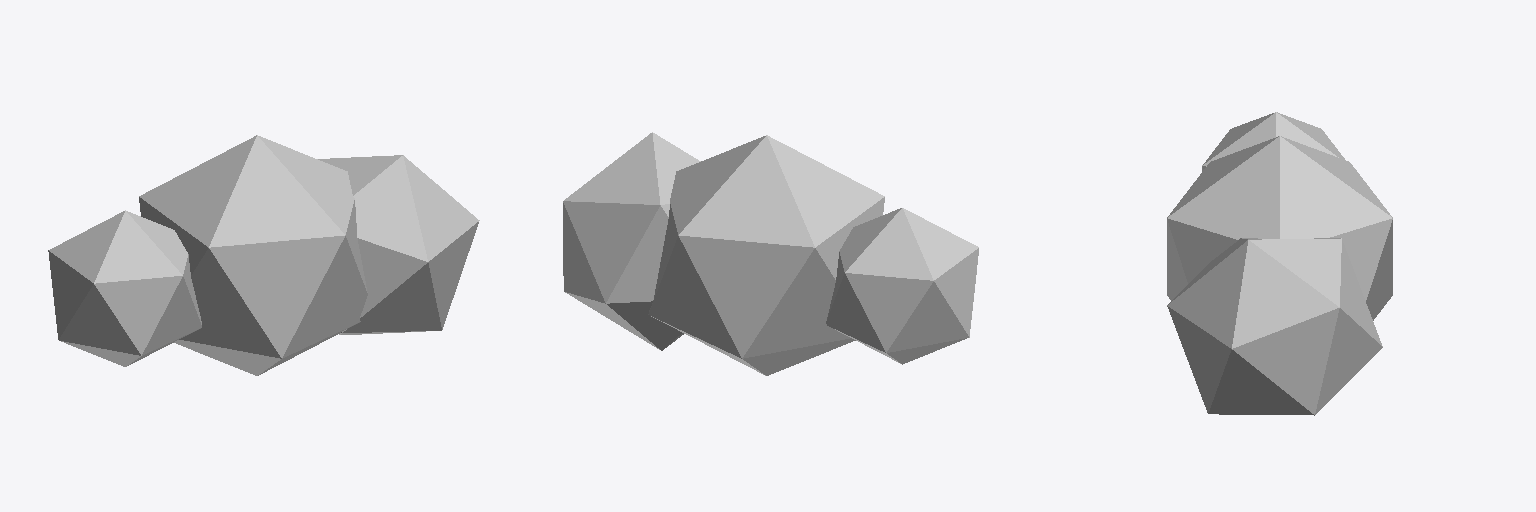
Rendered from cloud.obj.
3 views of the same model, side by side, from view 1: azimuth 30°, elevation 25°; view 2: azimuth 150°, elevation 25°; view 3: azimuth 270°, elevation 25° (orthographic).
Parts seen in each view (by area): view 1: Icosphere_Icosphere.001; view 2: Icosphere_Icosphere.001; view 3: Icosphere_Icosphere.001.
Part boxes in pixels (left/top/right/bottom): Icosphere_Icosphere.001: left=48, top=135, right=479, bottom=375; Icosphere_Icosphere.001: left=563, top=132, right=978, bottom=375; Icosphere_Icosphere.001: left=1167, top=112, right=1392, bottom=415.
Size of the model in its own units: 3.46 by 2 by 1.7.